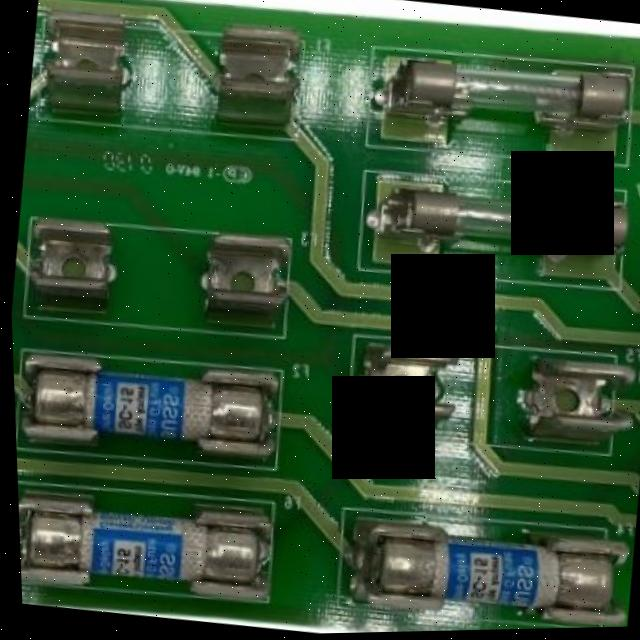fuse F1: (341, 509, 630, 634), (10, 342, 271, 480), (370, 36, 634, 167), (14, 480, 273, 613), (370, 169, 629, 285)
